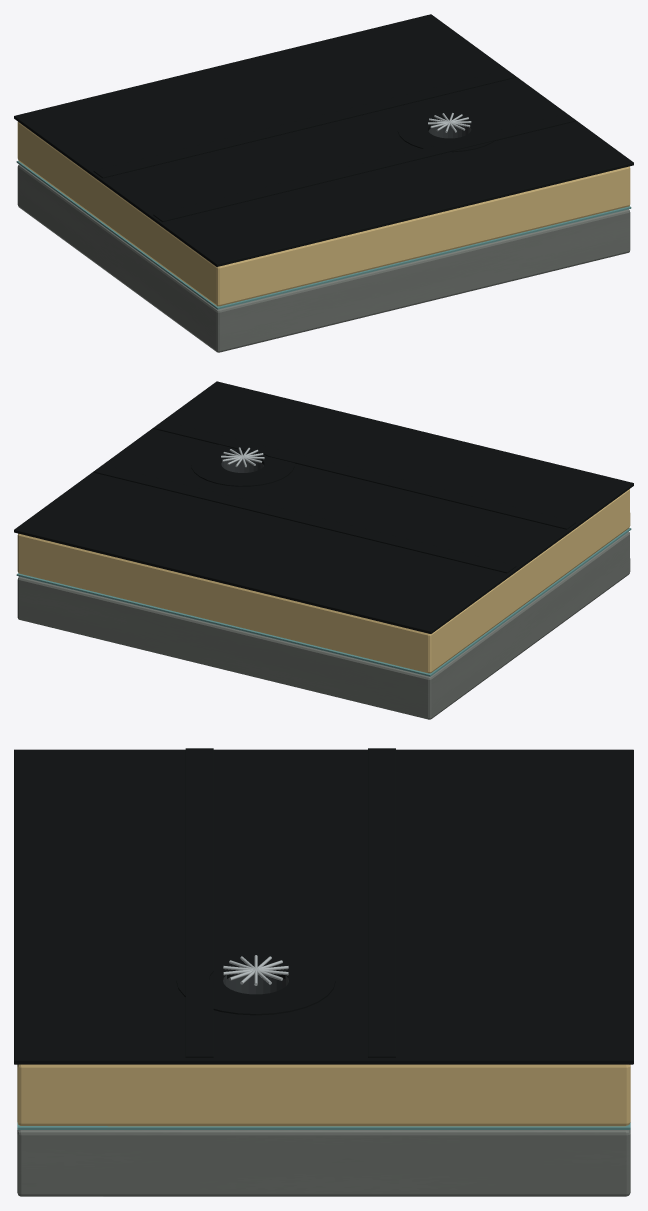
The model's file is modell.glb.
3 renders of one model, top to bottom at view 1: azimuth 30°, elevation 25°; view 2: azimuth 150°, elevation 25°; view 3: azimuth 270°, elevation 25°, orthographic. The views are drawn at different scales.
Visible parts, largest first — view 1: f03-abdichtung_deckung, f03-untergrund_tragwerk, f03-daemmung_daemmung, f03-naht_deckung, f03-flansch_, f03-luftdichtheit_luftdichtheit, f03-ablauf_.002; view 2: f03-abdichtung_deckung, f03-untergrund_tragwerk, f03-daemmung_daemmung, f03-naht_deckung, f03-flansch_, f03-luftdichtheit_luftdichtheit, f03-ablauf_.002; view 3: f03-abdichtung_deckung, f03-untergrund_tragwerk, f03-daemmung_daemmung, f03-naht_deckung, f03-flansch_, f03-luftdichtheit_luftdichtheit, f03-ablauf_.002, f03-ablauf_.
Part boxes in pixels (left/top/right/bottom): f03-abdichtung_deckung: left=14, top=14, right=633, bottom=266; f03-untergrund_tragwerk: left=17, top=164, right=630, bottom=352; f03-daemmung_daemmung: left=17, top=122, right=630, bottom=306; f03-naht_deckung: left=93, top=70, right=575, bottom=221; f03-flansch_: left=397, top=107, right=501, bottom=152; f03-luftdichtheit_luftdichtheit: left=16, top=160, right=631, bottom=309; f03-ablauf_.002: left=428, top=113, right=471, bottom=132; f03-abdichtung_deckung: left=14, top=381, right=633, bottom=633; f03-untergrund_tragwerk: left=17, top=531, right=630, bottom=719; f03-daemmung_daemmung: left=17, top=489, right=630, bottom=673; f03-naht_deckung: left=93, top=421, right=575, bottom=573; f03-flansch_: left=191, top=442, right=294, bottom=486; f03-luftdichtheit_luftdichtheit: left=16, top=528, right=631, bottom=676; f03-ablauf_.002: left=221, top=447, right=264, bottom=467; f03-abdichtung_deckung: left=14, top=749, right=633, bottom=1064; f03-untergrund_tragwerk: left=17, top=1130, right=630, bottom=1196; f03-daemmung_daemmung: left=17, top=1064, right=630, bottom=1126; f03-naht_deckung: left=185, top=748, right=395, bottom=1057; f03-flansch_: left=176, top=947, right=335, bottom=1015; f03-luftdichtheit_luftdichtheit: left=17, top=1122, right=630, bottom=1129; f03-ablauf_.002: left=223, top=955, right=288, bottom=985; f03-ablauf_: left=223, top=973, right=288, bottom=994.
Bounding box in the file's own units: 2.22 × 0.505 × 1.87.
6 materials, 1 textured.
